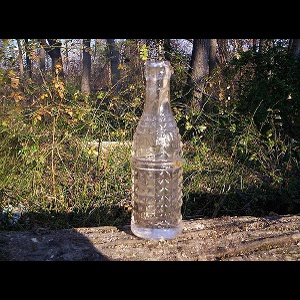emptybottle: (132, 62, 183, 241)
